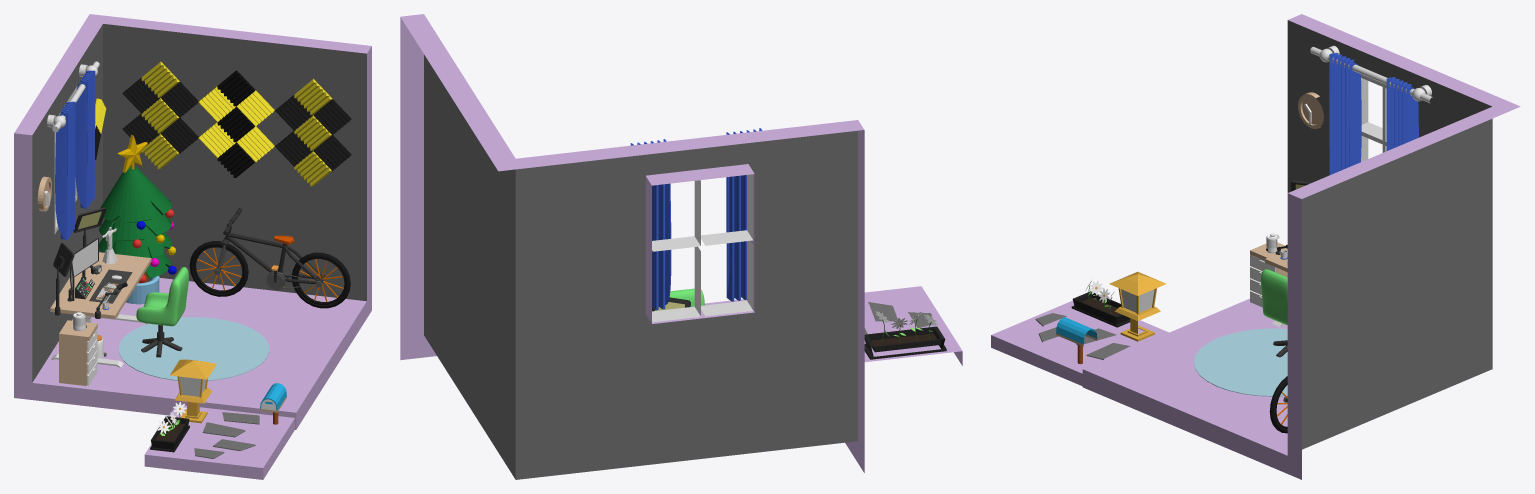
Rendered from room.glb.
The picture shows the model from 3 angles, left to right: view 1: azimuth 30°, elevation 25°; view 2: azimuth 150°, elevation 25°; view 3: azimuth 270°, elevation 25°; orthographic projection. The views are drawn at different scales.
Parts seen in each view (by area): view 1: Room, Carpet, Contact Area Floor, Table, Plane.002, Plane.003, Cylinder.006, drawer, Cube.034, Cube.036, Plane.016, Cylinder.005 (+34 smaller); view 2: Room, Window Frame, Contact Area Floor, Plane.002, Plane.003, Plane.006, Plane.016; view 3: Room, Contact Area Floor, Carpet, Plane.002, Plane.003, Cube.036, Window Frame, Cube.034, Plane.006, drawer, Plane.016, Cylinder.025 (+1 smaller).
Part boxes in pixels (<box>): Room: <box>14,14,371,429</box>; Carpet: <box>118,317,269,380</box>; Contact Area Floor: <box>144,404,294,479</box>; Table: <box>50,252,151,367</box>; Plane.002: <box>55,101,75,240</box>; Plane.003: <box>75,70,95,209</box>; Cylinder.006: <box>100,166,171,222</box>; drawer: <box>59,320,97,386</box>; Cube.034: <box>136,267,188,326</box>; Cube.036: <box>170,359,216,423</box>; Plane.016: <box>194,412,259,458</box>; Cylinder.005: <box>99,205,172,240</box>; Room: <box>400,14,864,479</box>; Window Frame: <box>652,174,753,322</box>; Contact Area Floor: <box>864,286,962,365</box>; Plane.002: <box>726,128,762,301</box>; Plane.003: <box>630,139,671,310</box>; Plane.006: <box>864,326,946,359</box>; Plane.016: <box>864,302,931,334</box>; Room: <box>1082,14,1520,479</box>; Contact Area Floor: <box>991,300,1168,386</box>; Carpet: <box>1194,328,1287,396</box>; Plane.002: <box>1329,53,1361,175</box>; Plane.003: <box>1386,77,1418,150</box>; Cube.036: <box>1109,271,1166,341</box>; Window Frame: <box>1361,74,1386,161</box>; Cube.034: <box>1261,269,1287,325</box>; Plane.006: <box>1071,291,1130,327</box>; drawer: <box>1250,242,1287,307</box>; Plane.016: <box>1035,313,1130,359</box>; Cylinder.025: <box>1056,317,1097,346</box>.
Size of the model in its own units: 13.08 by 9.25 by 15.81.
